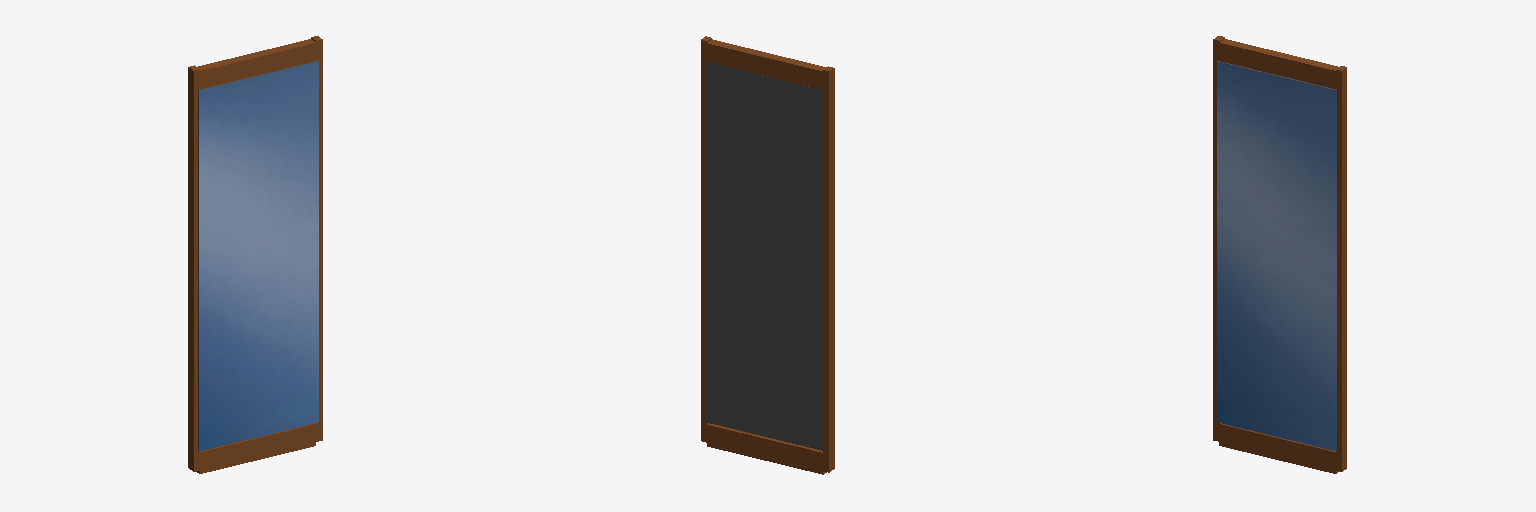
The picture shows the model from 3 angles: view 1: azimuth 30°, elevation 25°; view 2: azimuth 150°, elevation 25°; view 3: azimuth 330°, elevation 25°; orthographic projection.
Parts seen in each view (by area): view 1: vidrio1:Object01pasted__pasted__pasted__pasted__group86pasted__p, PuertaA:polySurface109; view 2: vidrio1:Object01pasted__pasted__pasted__pasted__group86pasted__p, PuertaA:polySurface109; view 3: vidrio1:Object01pasted__pasted__pasted__pasted__group86pasted__p, PuertaA:polySurface109.
Boxes of the visible parts, <box> form: vidrio1:Object01pasted__pasted__pasted__pasted__group86pasted__p: <box>198,61,318,450</box>; PuertaA:polySurface109: <box>188,36,322,473</box>; vidrio1:Object01pasted__pasted__pasted__pasted__group86pasted__p: <box>705,61,822,450</box>; PuertaA:polySurface109: <box>701,36,834,474</box>; vidrio1:Object01pasted__pasted__pasted__pasted__group86pasted__p: <box>1217,61,1336,450</box>; PuertaA:polySurface109: <box>1213,36,1346,473</box>.
Size of the model in its own units: 1 by 3 by 0.0854.
6 materials, 2 textured.